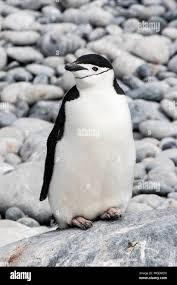chinstrap: (31, 36, 159, 250)
